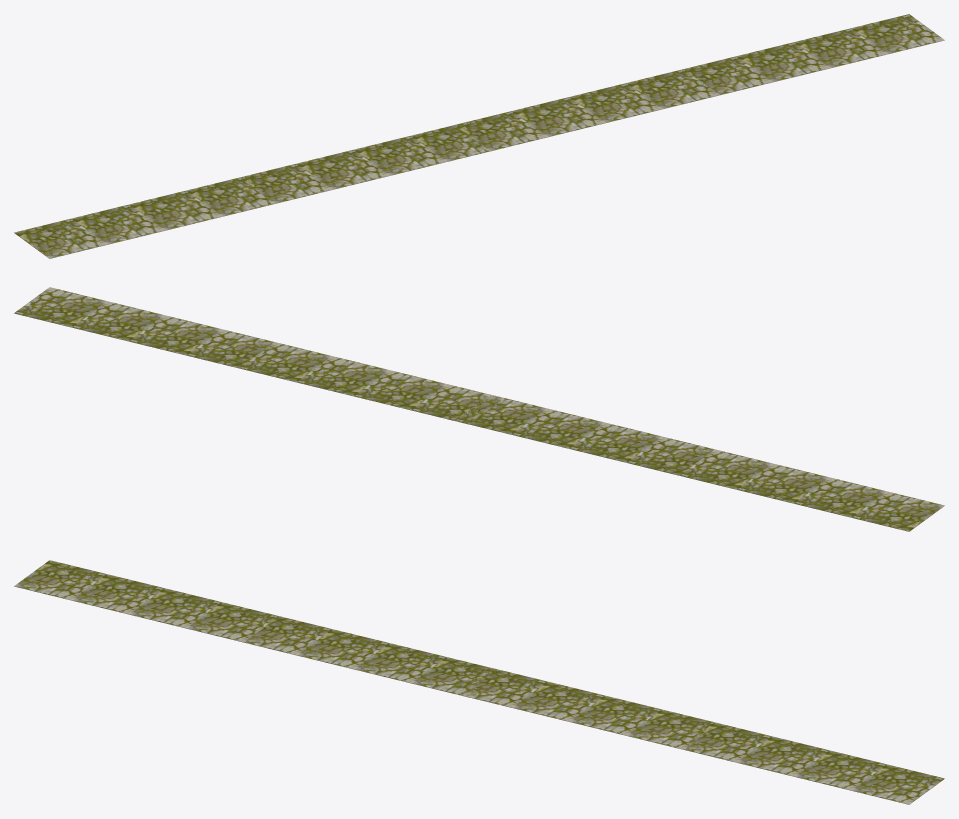
File: Grass Road.fbx
3 renders of one model, top to bottom at view 1: azimuth 30°, elevation 25°; view 2: azimuth 150°, elevation 25°; view 3: azimuth 330°, elevation 25°, orthographic.
Visible parts, largest first — view 1: grass road; view 2: grass road; view 3: grass road.
Boxes of the visible parts, x1,y1,x2,y2 form: grass road: [14, 14, 944, 258]; grass road: [14, 287, 944, 531]; grass road: [14, 560, 944, 804].
Size of the model in its own units: 33707 by 10.93 by 2332.
